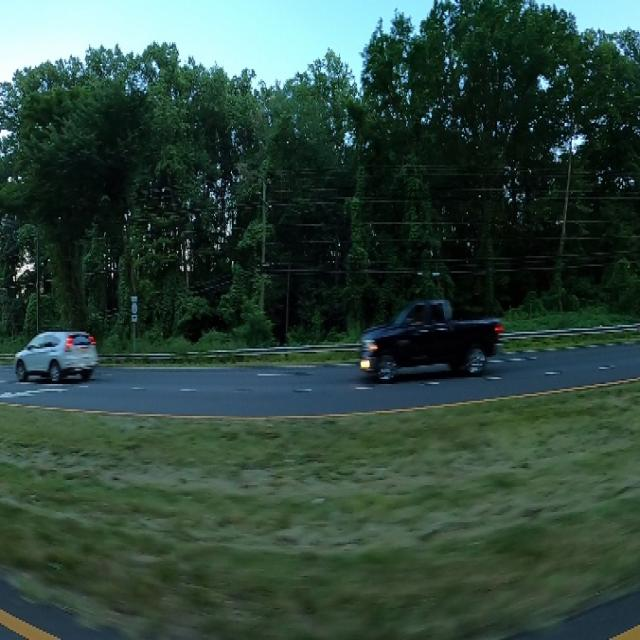car: (355, 291, 504, 384), (13, 318, 105, 384)
